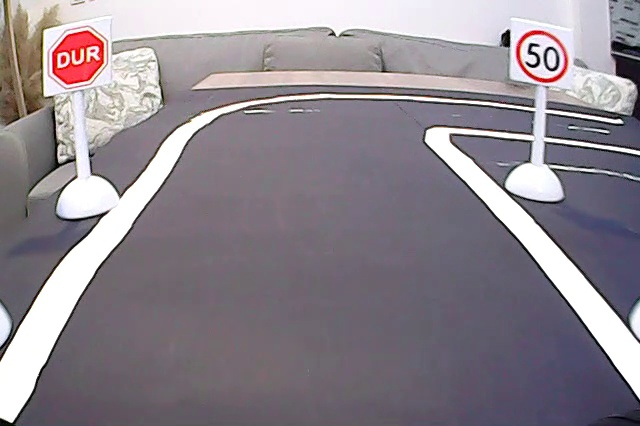speed limit 50: (511, 22, 572, 88)
stop sign: (43, 29, 111, 93)
